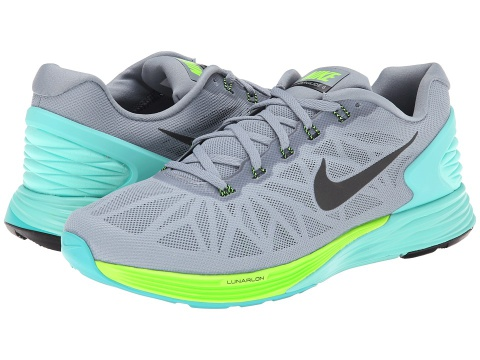nike: (311, 134, 421, 212)
